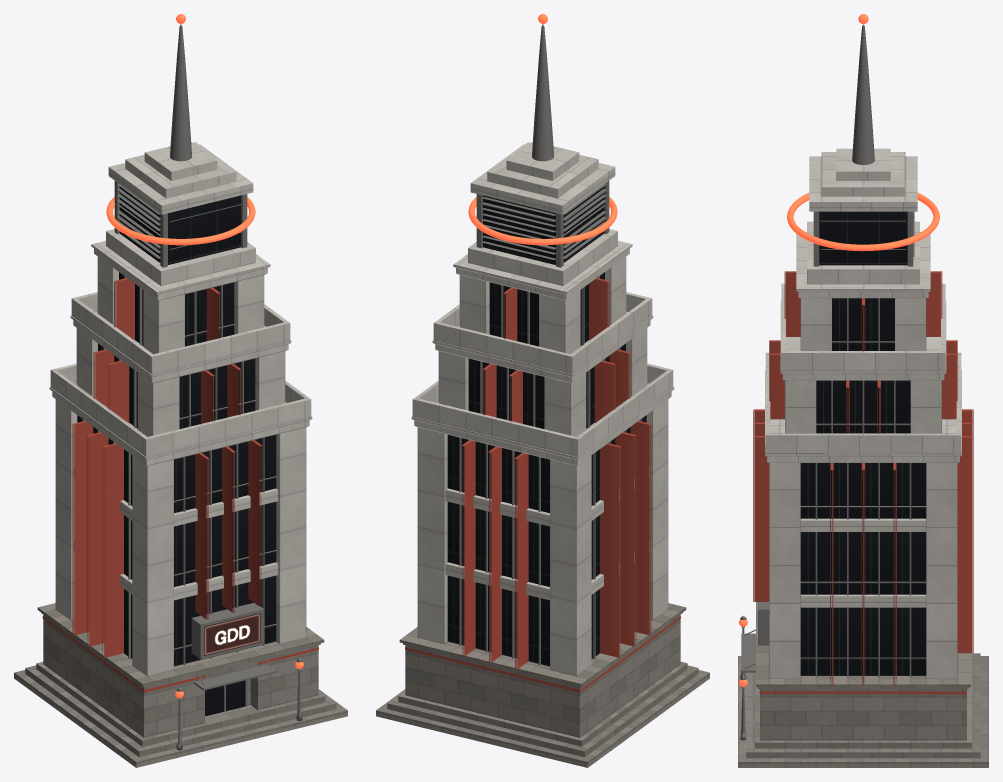
Rendered from s22-get-delivery-dao.glb.
3 views of the same model, side by side, from view 1: azimuth 30°, elevation 25°; view 2: azimuth 150°, elevation 25°; view 3: azimuth 270°, elevation 25° (orthographic). The views are drawn at different scales.
Parts seen in each view (by area): view 1: Landmark · Get.Delivery DAO (Series 22); view 2: Landmark · Get.Delivery DAO (Series 22); view 3: Landmark · Get.Delivery DAO (Series 22).
Boxes of the visible parts, x1,y1,x2,y2 form: Landmark · Get.Delivery DAO (Series 22): [14, 14, 347, 767]; Landmark · Get.Delivery DAO (Series 22): [376, 14, 709, 767]; Landmark · Get.Delivery DAO (Series 22): [738, 14, 988, 767].
Size of the model in its own units: 12 by 37 by 12.
Materials: 7 (4 with a texture image).
